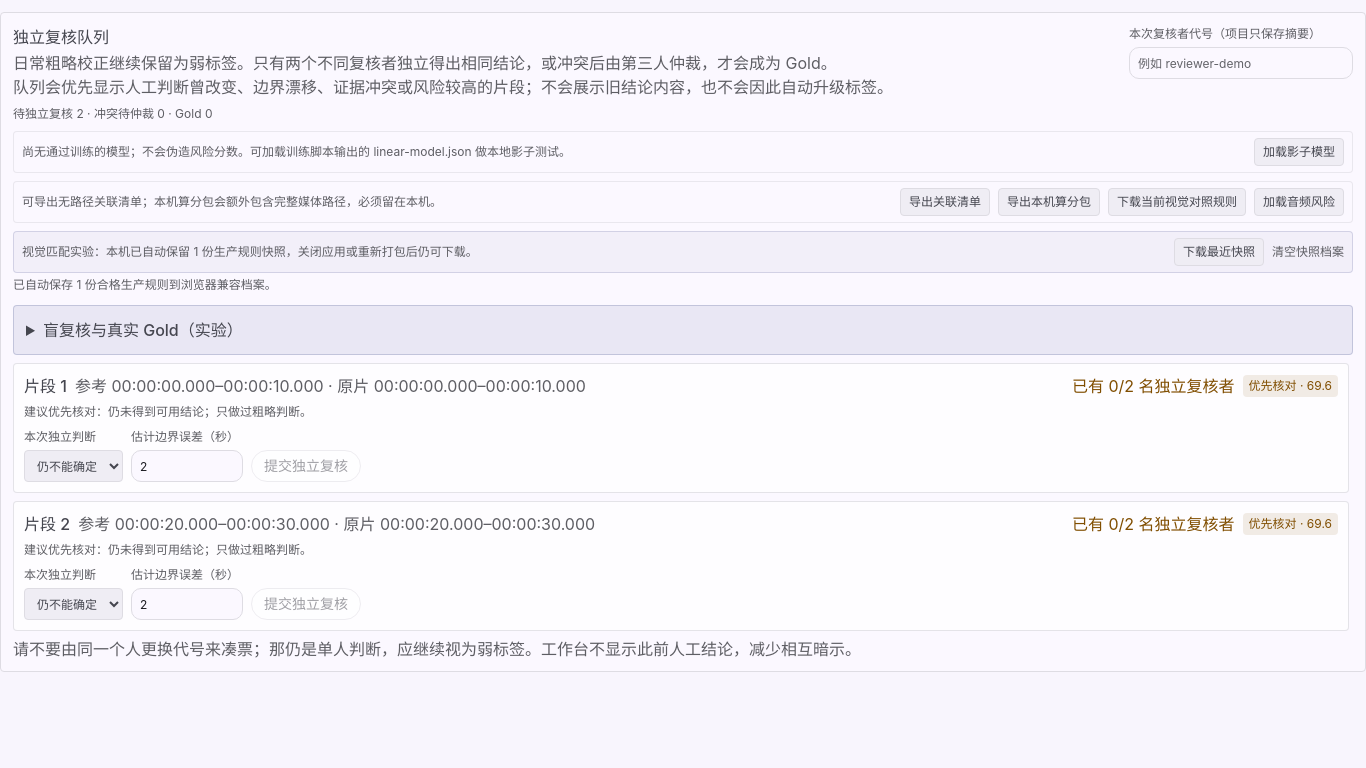
Test case: 独立复核队列离线音频风险 › 清空自动档案后不会立刻重建相同规则
The width and height of the screenshot is (1366, 768).
Expected: the text "视觉匹配实验：本机已自动保留 1 份生产规则快照，关闭应用或重新打包后仍可下载。" is shown, top-left (22, 243), bottom-right (478, 261)
Click the button "清空快照档案".
click(1308, 252)  # box top-left (1272, 243), bottom-right (1344, 261)
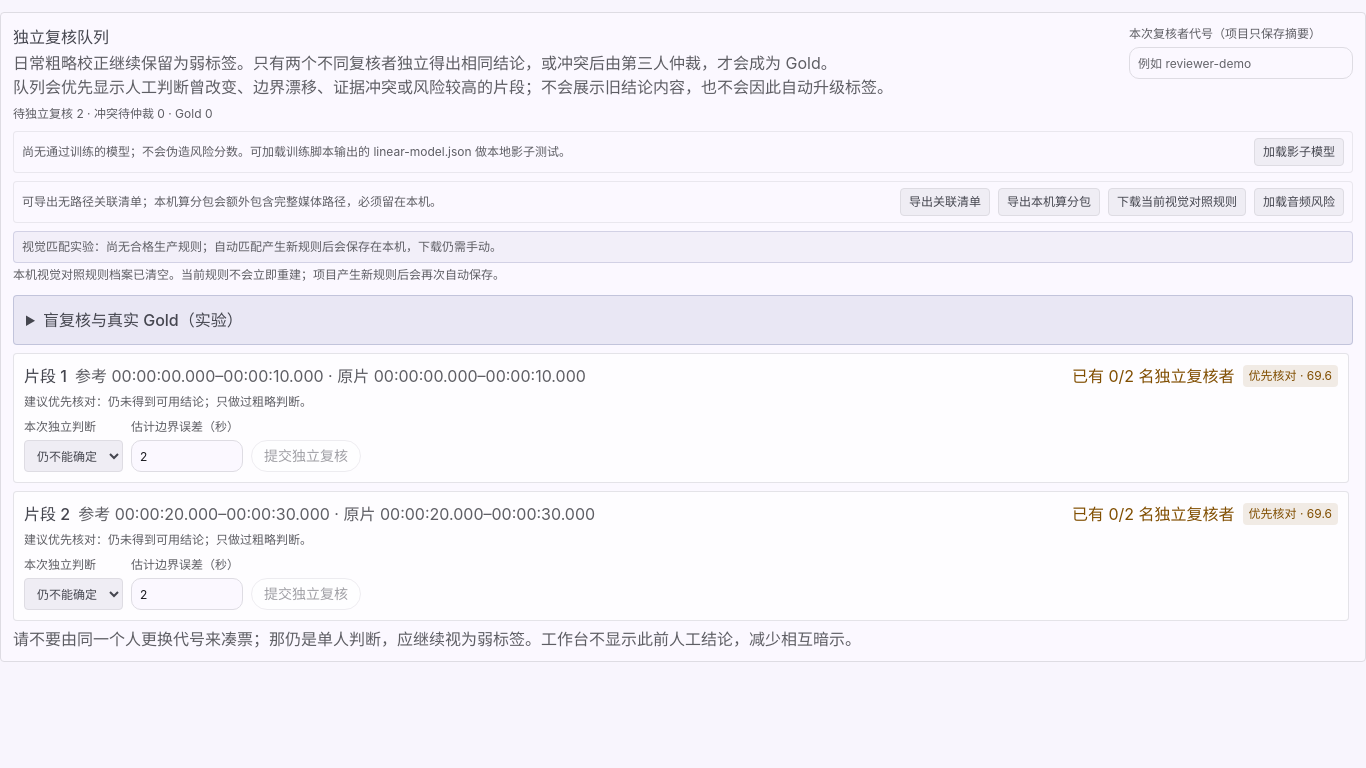
Now the text "本机视觉对照规则档案已清空。当前规则不会立即重建；项目产生新规则后会再次自动保存。" is shown, box top-left (13, 267), bottom-right (505, 282)
